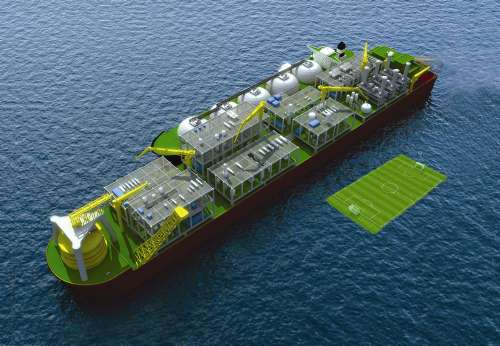Cargoship: (29, 38, 437, 294)
